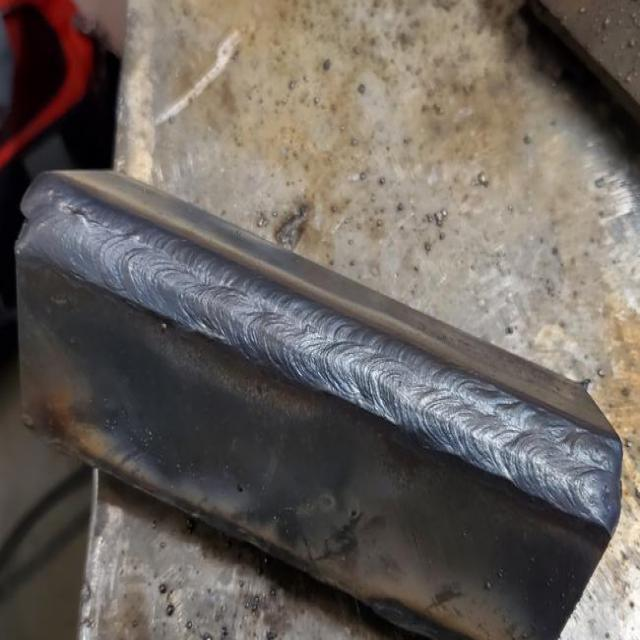Good Weld: (202, 273, 412, 416), (426, 371, 622, 518), (34, 190, 188, 306)
